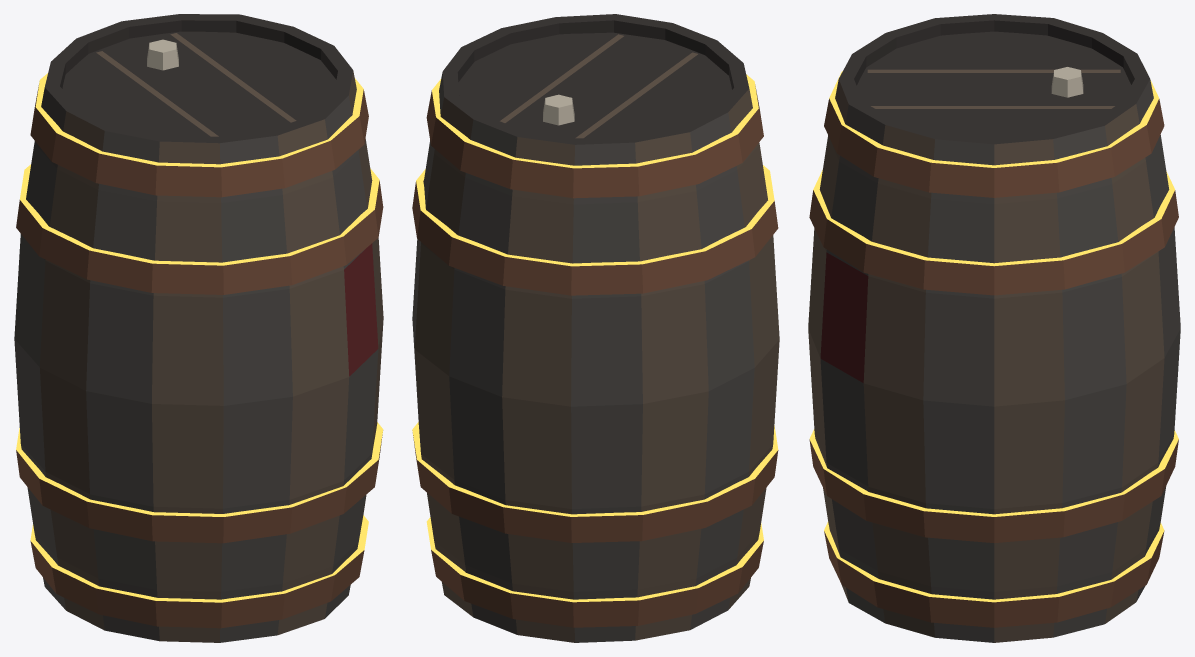
Rendered from barrel.glb.
3 views of the same model, side by side, from view 1: azimuth 30°, elevation 25°; view 2: azimuth 150°, elevation 25°; view 3: azimuth 270°, elevation 25° (orthographic).
Parts seen in each view (by area): view 1: barrel_body, lid, hoop_2, hoop_3, hoop_1, hoop_0, lid_seams, bung; view 2: barrel_body, lid, hoop_2, hoop_3, hoop_1, hoop_0, lid_seams, bung; view 3: barrel_body, lid, hoop_2, hoop_3, hoop_1, hoop_0, lid_seams, bung.
Boxes of the visible parts, <box> form: barrel_body: <box>14,14,383,642</box>; lid: <box>62,31,336,136</box>; hoop_2: <box>16,164,383,294</box>; hoop_3: <box>30,73,368,197</box>; hoop_1: <box>16,422,383,543</box>; hoop_0: <box>30,515,368,628</box>; lid_seams: <box>96,33,296,136</box>; bung: <box>147,39,178,70</box>; barrel_body: <box>412,14,779,642</box>; lid: <box>458,32,731,138</box>; hoop_2: <box>412,165,778,295</box>; hoop_3: <box>426,74,763,198</box>; hoop_1: <box>412,422,778,542</box>; hoop_0: <box>426,517,763,627</box>; lid_seams: <box>500,34,697,138</box>; bung: <box>543,94,574,125</box>; barrel_body: <box>808,14,1180,642</box>; lid: <box>857,31,1131,137</box>; hoop_2: <box>809,170,1178,295</box>; hoop_3: <box>824,71,1164,197</box>; hoop_1: <box>809,429,1178,543</box>; hoop_0: <box>824,521,1164,627</box>; lid_seams: <box>867,69,1120,108</box>; bung: <box>1051,67,1083,97</box>.
Size of what is drawn, in the model's own units: 0.6059 by 0.91 by 0.6097.
